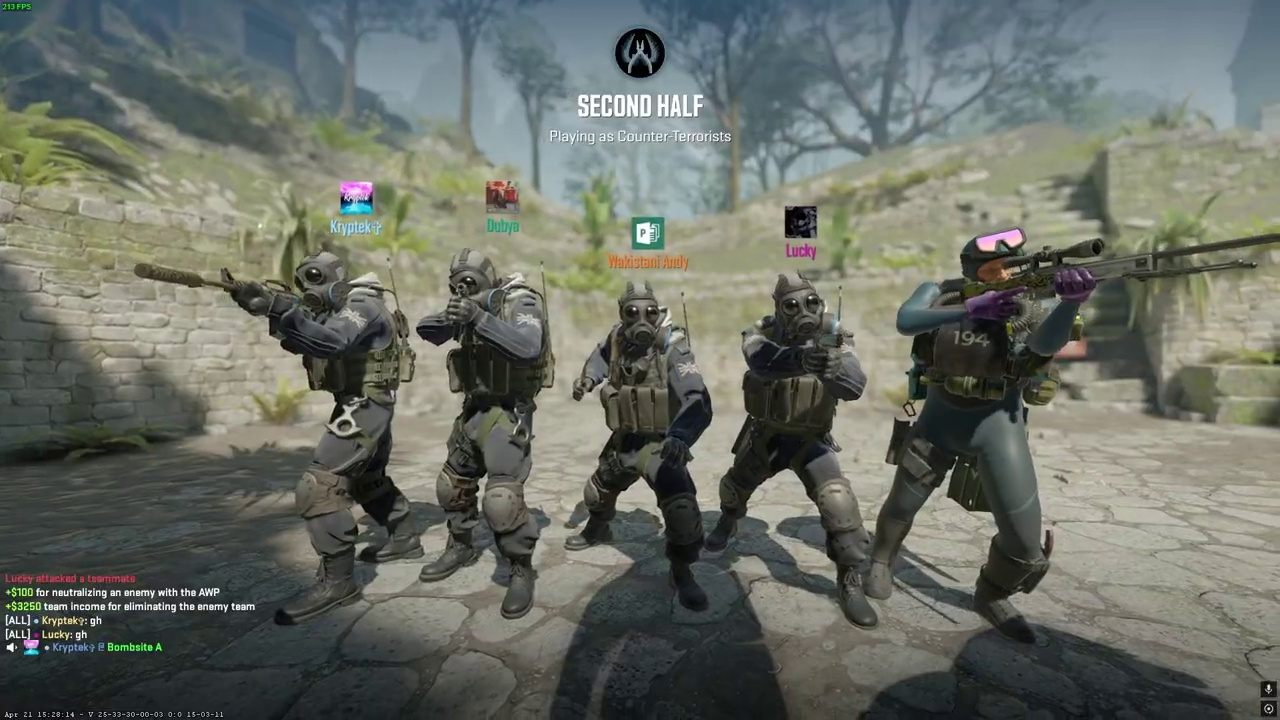CT: (871, 228, 1079, 646), (263, 248, 421, 627), (712, 269, 876, 626), (417, 246, 555, 619), (571, 280, 724, 610)
